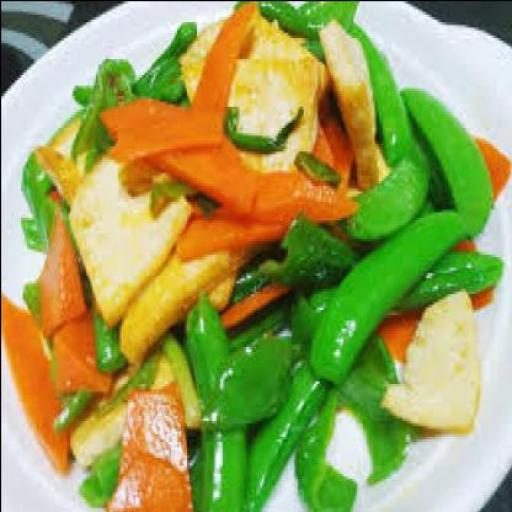biodegradable: (310, 206, 473, 380), (69, 154, 192, 320), (69, 327, 202, 459), (121, 211, 235, 361), (305, 251, 504, 327), (383, 285, 487, 425), (243, 352, 334, 506), (404, 85, 492, 240), (186, 293, 245, 509), (2, 290, 73, 464), (106, 374, 196, 510), (223, 53, 327, 169), (320, 16, 391, 182), (336, 330, 410, 477), (348, 18, 419, 162), (239, 209, 362, 292), (200, 330, 300, 424), (196, 0, 261, 138), (296, 377, 360, 509), (342, 152, 435, 238), (102, 92, 222, 156), (150, 137, 255, 209), (35, 200, 89, 328), (72, 52, 136, 154), (176, 201, 293, 256), (132, 18, 198, 100), (36, 113, 94, 206), (51, 306, 115, 388), (254, 169, 360, 216), (234, 1, 335, 43), (247, 11, 330, 60), (22, 148, 64, 230), (225, 98, 303, 142), (180, 18, 222, 95), (320, 98, 358, 174), (298, 0, 358, 48), (71, 82, 107, 160), (476, 132, 511, 202), (80, 440, 122, 498), (92, 300, 127, 364), (54, 388, 90, 428), (210, 266, 239, 308), (20, 216, 49, 248), (24, 274, 46, 312)
